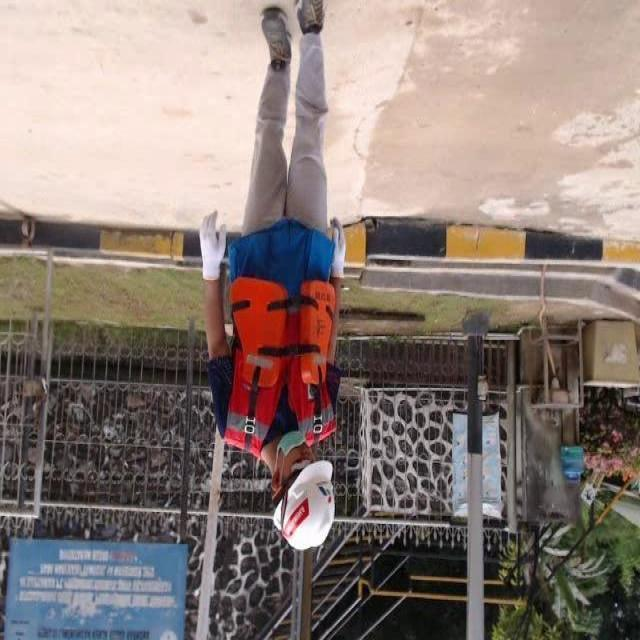helmet: (265, 455, 345, 559)
jacket: (191, 268, 350, 468)
